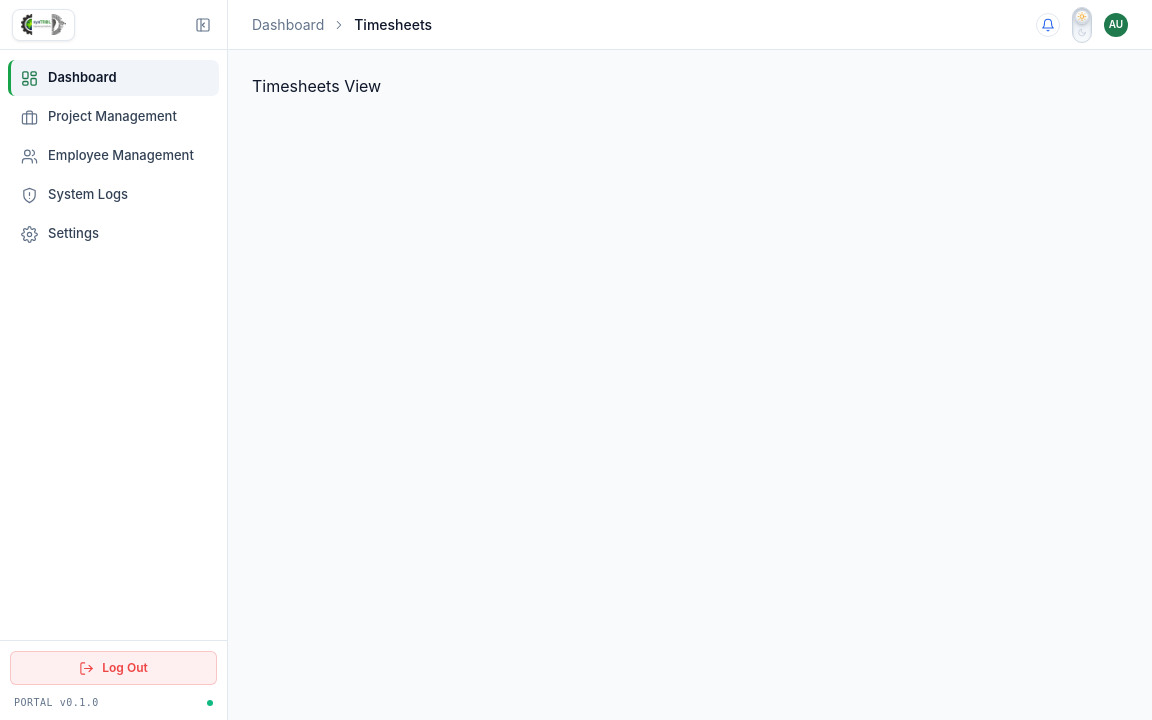
Test: AppShell › renders app shell layout, brand logo, and navigates on menu clicks
This screenshot has width=1152, height=720.
Expected: the text "Timesheets View" is shown, [252,76,381,96]
Expected: the picture named "Admin User" is shown, [1104,12,1128,36]
Step 1. Click the button "Project Management" → (114, 117), box [8,99,219,135]
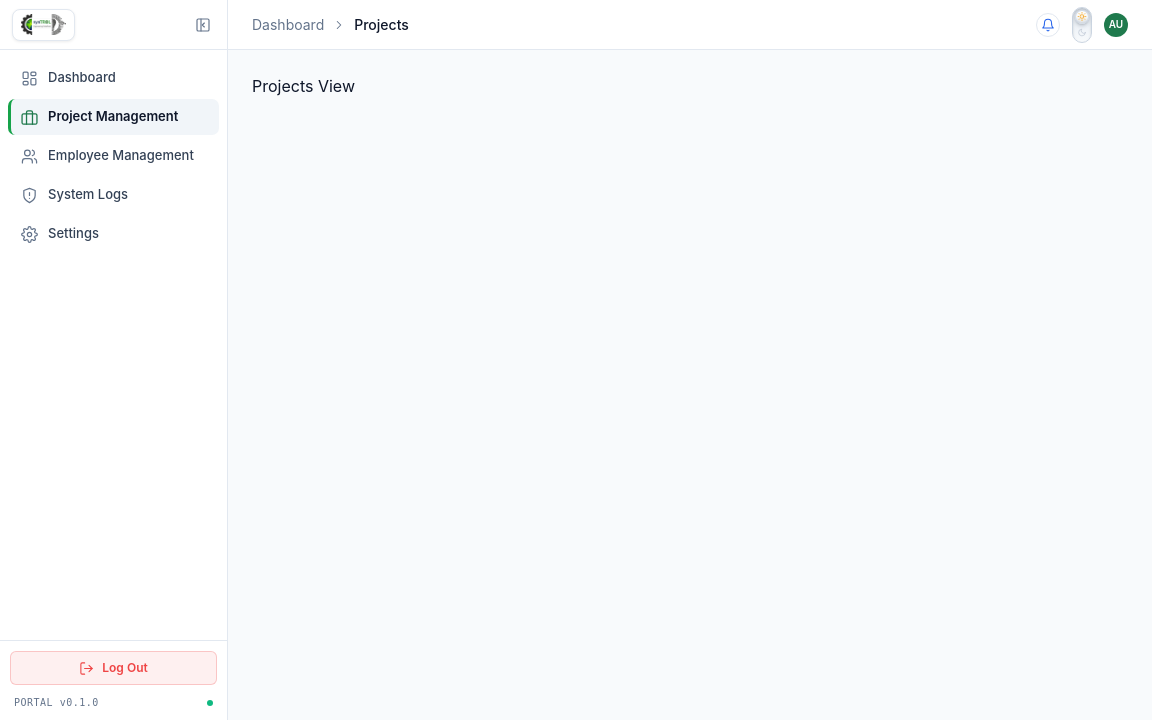
Expected: the text "Projects View" is shown, [252,76,355,96]
